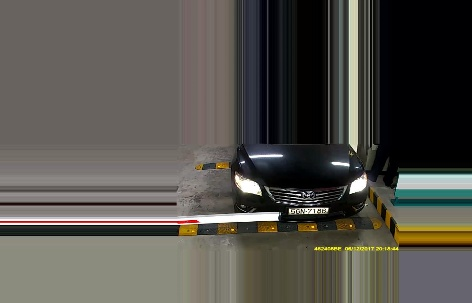plate: (286, 203, 331, 215)
